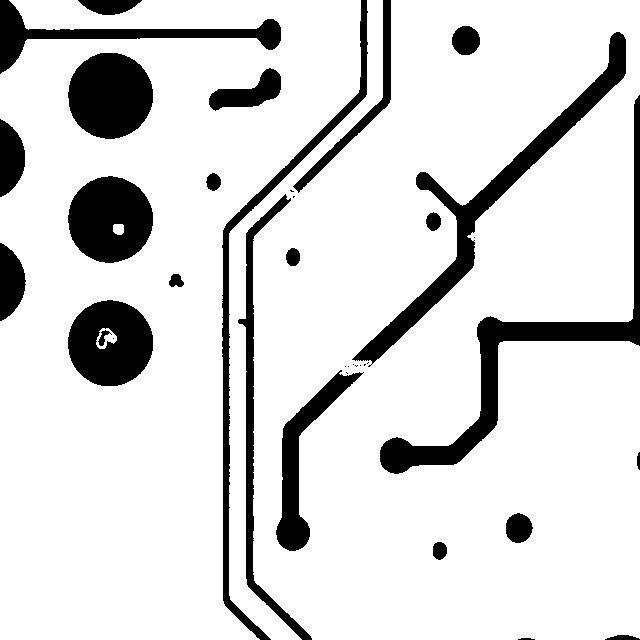copper: (159, 264, 193, 296)
mousebite: (457, 222, 485, 250)
open: (329, 350, 382, 385), (276, 174, 308, 212)
pin-hole: (86, 318, 126, 358), (103, 214, 133, 244)
spur: (228, 309, 259, 337)
